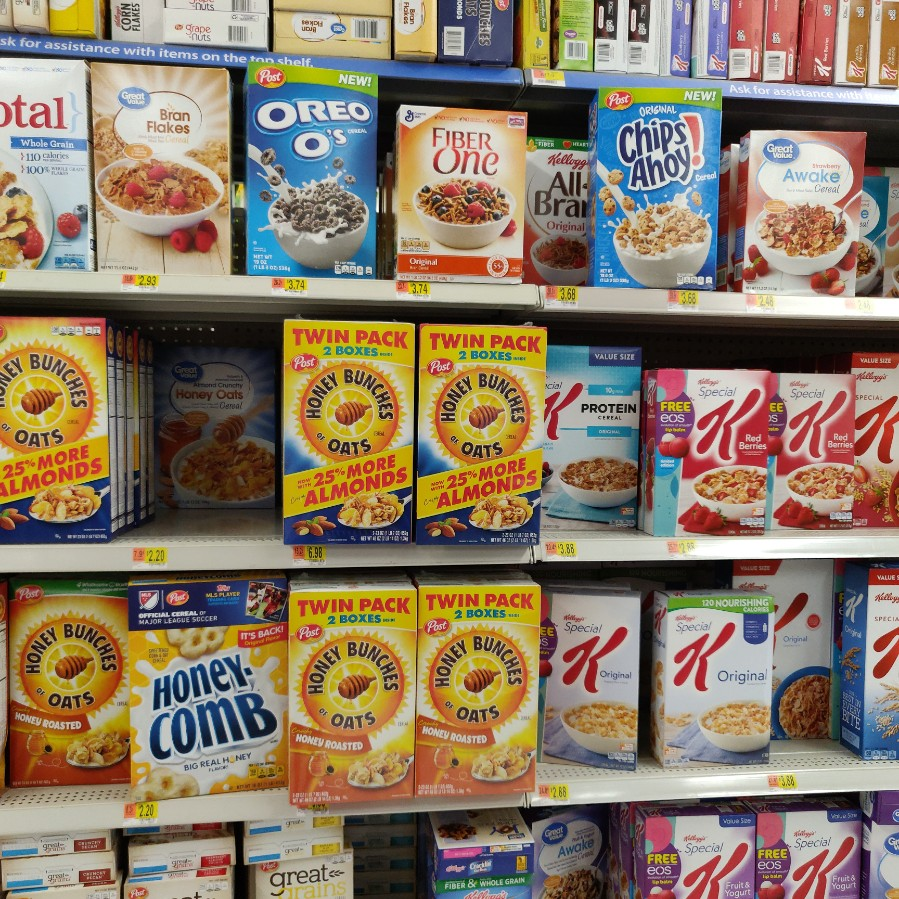Chips Ahoys-565717529: (597, 84, 722, 286)
Honey Comb- 009288857: (124, 579, 295, 797)
Oreo-563424384: (247, 63, 382, 276)
